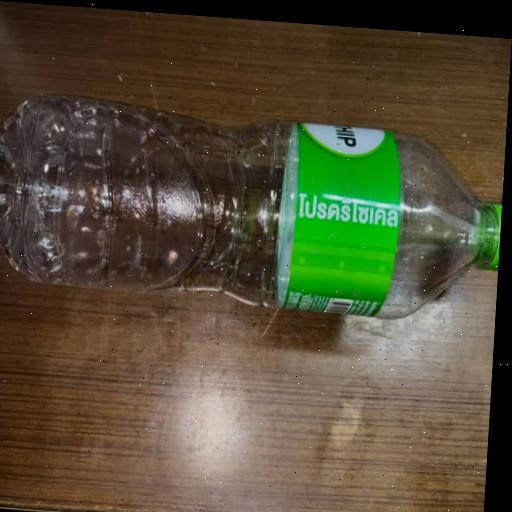ba: (0, 80, 507, 334)
